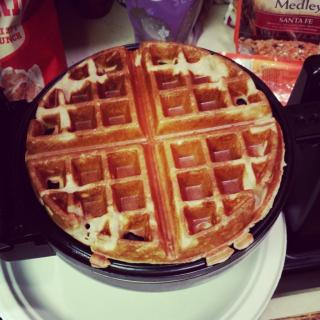Waffle: (25, 42, 287, 269)
